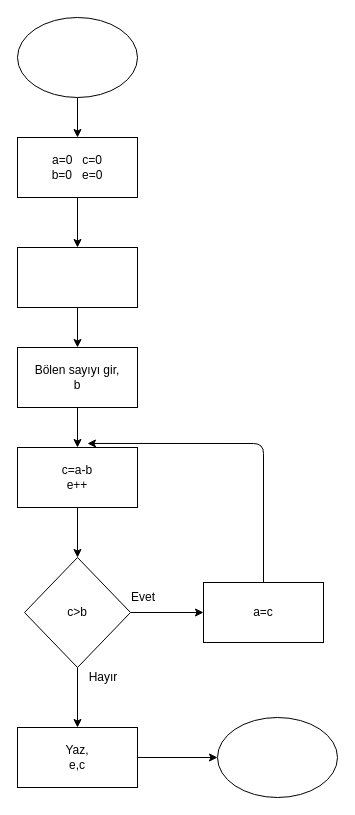
This 355x815 diagram has some shape labels left out. Here are the shapes that lost their labels. From the top down, the centre of each, then its label:
At [77,57]: "Başla".
At [77,277]: "Bölünecek sayıyı gir, a".
At [277,757]: "Son".
